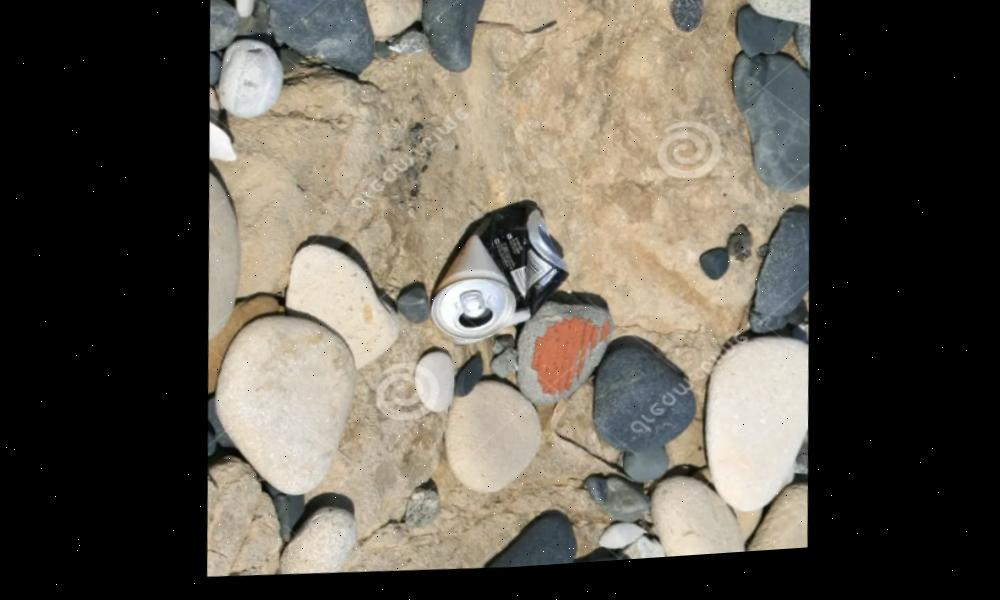can: (425, 203, 568, 353)
